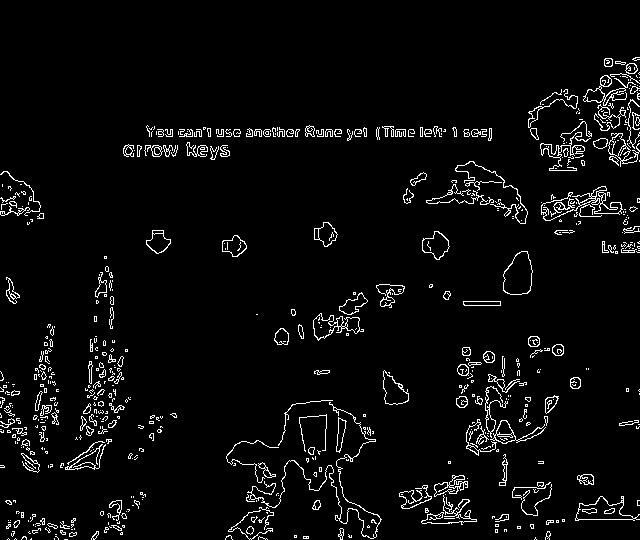down: (140, 223, 179, 265)
right: (416, 225, 459, 267), (215, 228, 254, 268), (307, 214, 345, 255)
